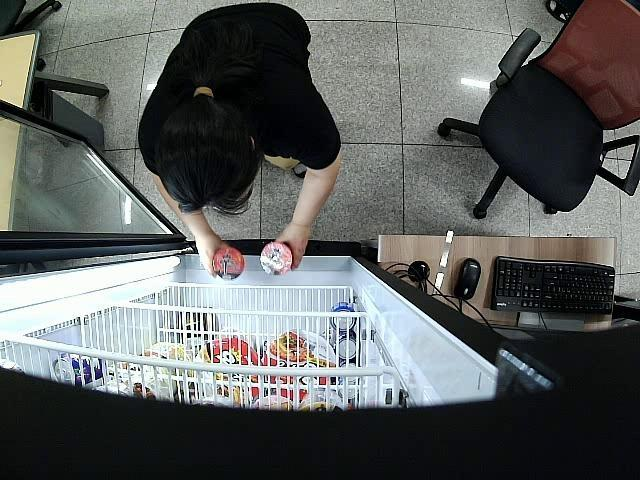02_shinRamen_S: (260, 242, 294, 277), (213, 248, 244, 279)
